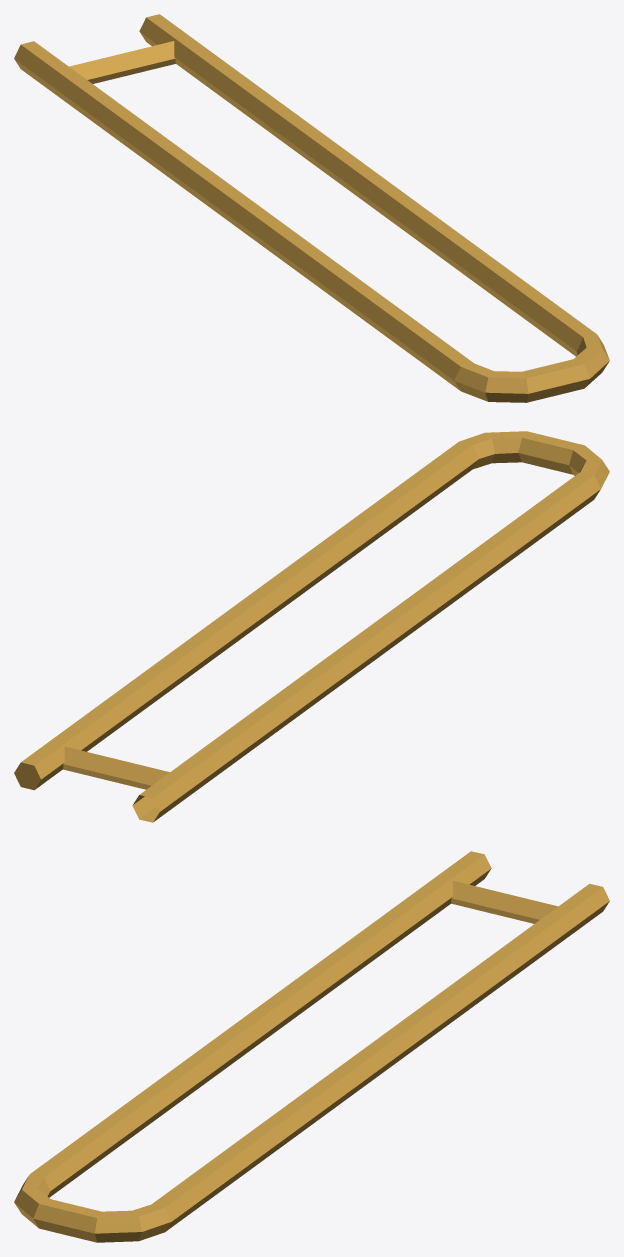
Rendered from SM_Prop_Music_Trombone_01_SlideTube_01.obj.
3 views of the same model, one above another, from view 1: azimuth 30°, elevation 25°; view 2: azimuth 150°, elevation 25°; view 3: azimuth 330°, elevation 25° (orthographic).
Parts seen in each view (by area): view 1: SM_Prop_Music_Trombone_01_SlideTube_01_0; view 2: SM_Prop_Music_Trombone_01_SlideTube_01_0; view 3: SM_Prop_Music_Trombone_01_SlideTube_01_0.
Boxes of the visible parts, x1,y1,x2,y2 form: SM_Prop_Music_Trombone_01_SlideTube_01_0: [14, 14, 609, 402]; SM_Prop_Music_Trombone_01_SlideTube_01_0: [14, 431, 609, 822]; SM_Prop_Music_Trombone_01_SlideTube_01_0: [14, 851, 609, 1242].
Bounding box in the file's own units: 0.1476 × 0.0239 × 0.8108.
1 material, 1 textured.
